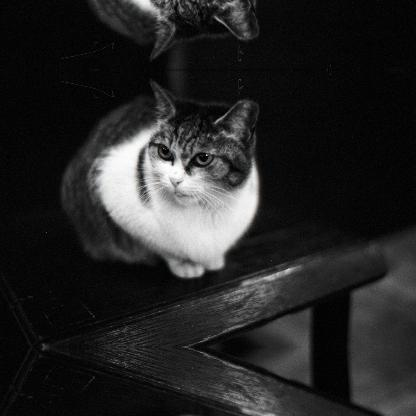Cat: (59, 75, 261, 277), (59, 0, 262, 64)
